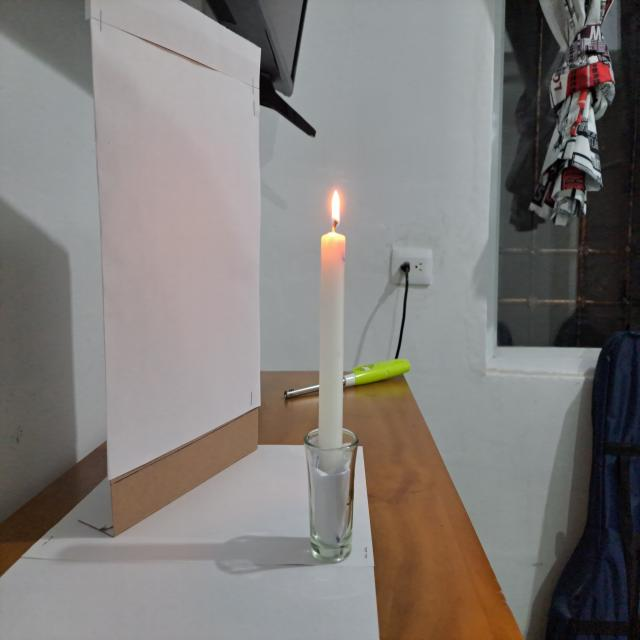candle: (304, 179, 360, 568)
wall: (88, 0, 266, 550)
